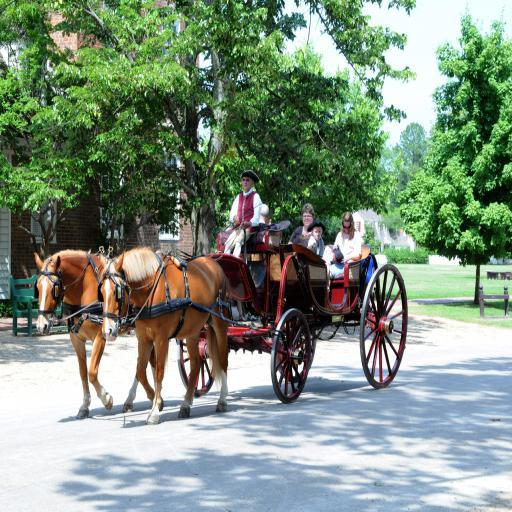Horse: (98, 246, 232, 425), (35, 246, 169, 419)
